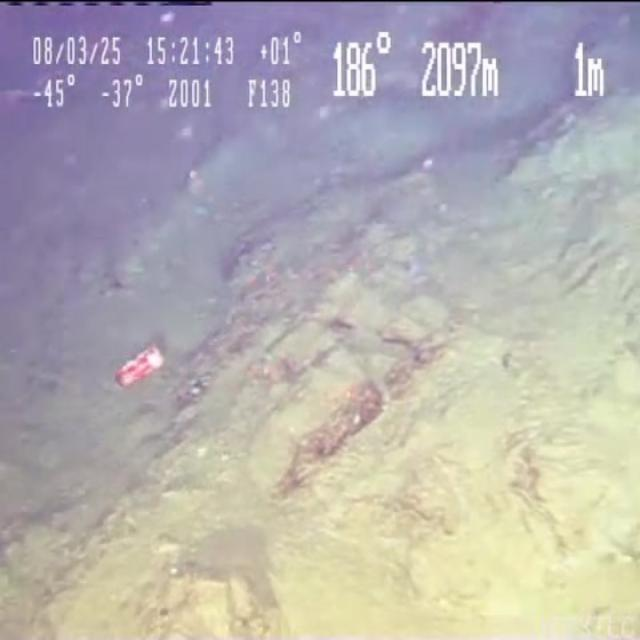Metal: (113, 332, 168, 393)
